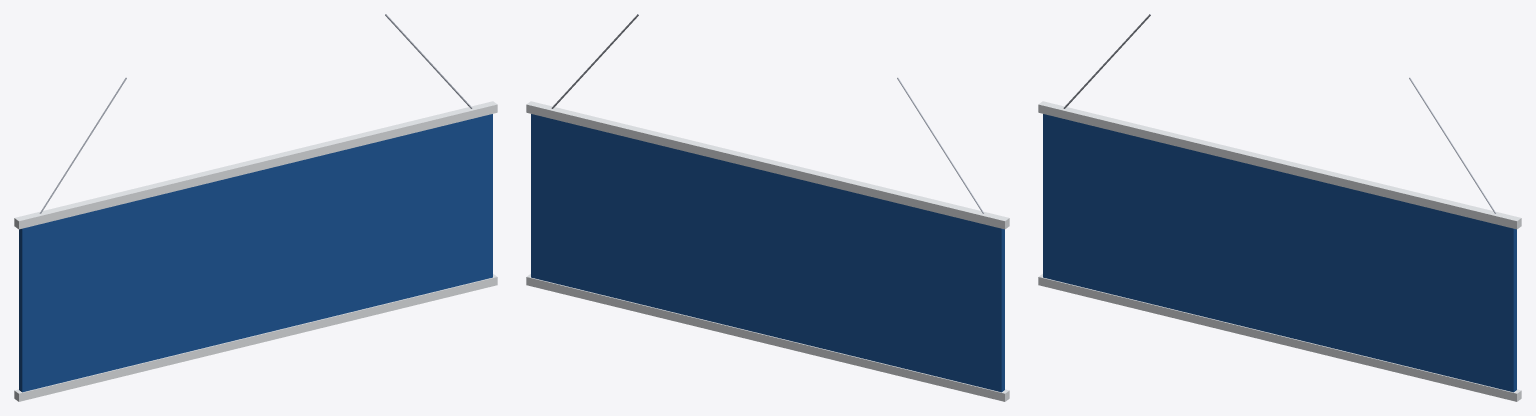
Rendered from evt-004.glb.
The picture shows the model from 3 angles, left to right: view 1: azimuth 30°, elevation 25°; view 2: azimuth 150°, elevation 25°; view 3: azimuth 330°, elevation 25°; orthographic projection.
Parts seen in each view (by area): view 1: airline_blue, white, steel; view 2: airline_blue, white, steel; view 3: airline_blue, white, steel.
Part boxes in pixels (left/top/right/bottom): airline_blue: left=19, top=114, right=492, bottom=392; white: left=14, top=101, right=497, bottom=401; steel: left=39, top=14, right=472, bottom=213; airline_blue: left=531, top=114, right=1004, bottom=392; white: left=526, top=101, right=1009, bottom=401; steel: left=551, top=14, right=984, bottom=213; airline_blue: left=1043, top=114, right=1516, bottom=392; white: left=1038, top=101, right=1521, bottom=401; steel: left=1063, top=14, right=1496, bottom=213.
Bounding box in the file's own units: 2.44 × 1.44 × 0.04.
